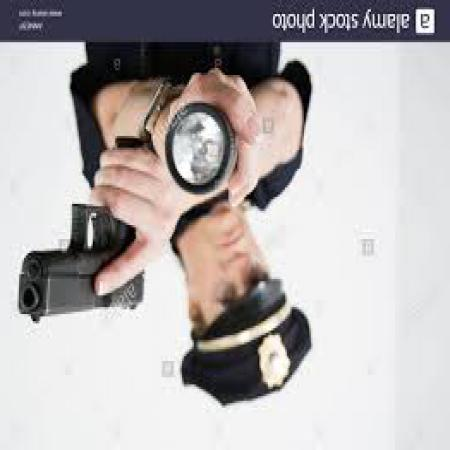Pistol: (16, 133, 148, 326)
